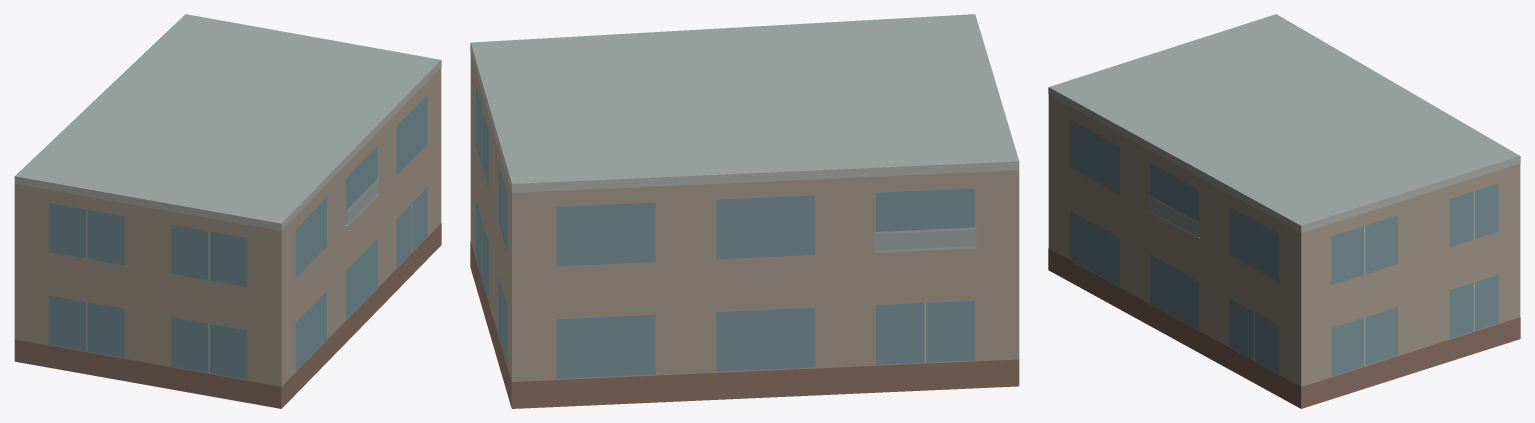
Rendered from survey-upis-32897397.glb.
3 renders of one model, left to right at view 1: azimuth 30°, elevation 25°; view 2: azimuth 150°, elevation 25°; view 3: azimuth 270°, elevation 25°, orthographic. The views are drawn at different scales.
Visible parts, largest first — view 1: survey-upis-32897397.tmp; view 2: survey-upis-32897397.tmp; view 3: survey-upis-32897397.tmp.
Part boxes in pixels (x1,y1,x2,y2): survey-upis-32897397.tmp: (14, 14, 441, 408); survey-upis-32897397.tmp: (470, 14, 1019, 408); survey-upis-32897397.tmp: (1048, 14, 1520, 408).
Bounding box in the file's own units: 15.15 × 6.1 × 14.26.
